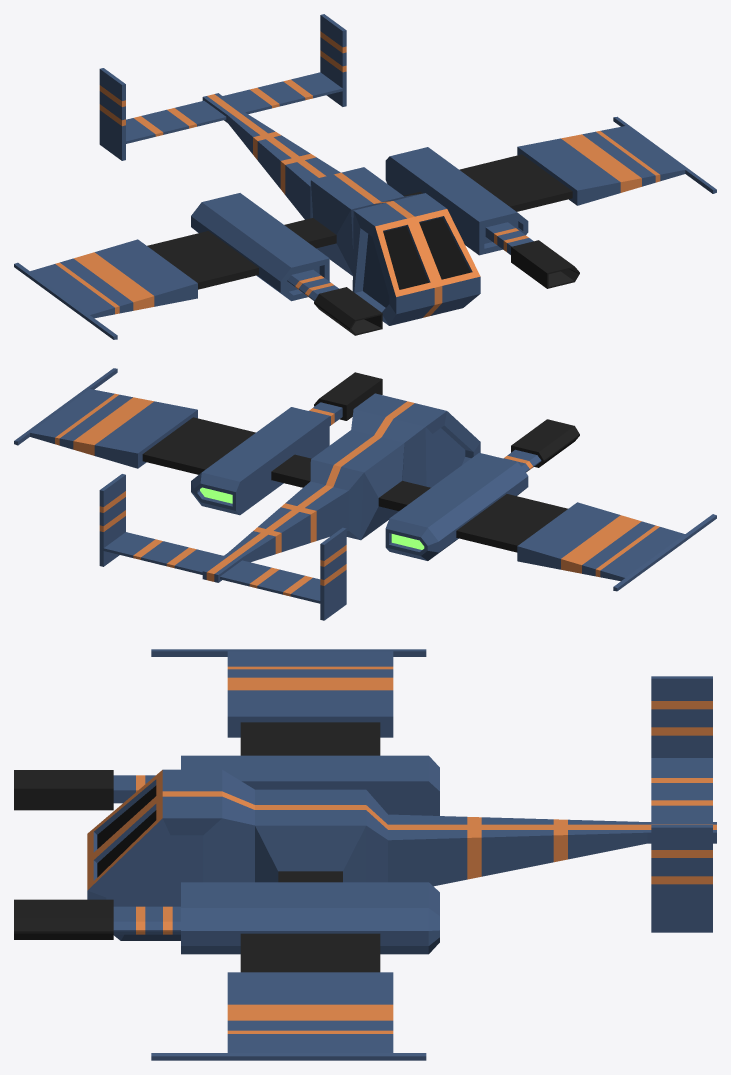
File: ks_enemy_ship_001.fbx
3 views of the same model, one above another, from view 1: azimuth 30°, elevation 25°; view 2: azimuth 150°, elevation 25°; view 3: azimuth 270°, elevation 25° (orthographic). The views are drawn at different scales.
Parts seen in each view (by area): view 1: Cube.052; view 2: Cube.052; view 3: Cube.052.
Part boxes in pixels (x1,y1,x2,y2): Cube.052: [14, 14, 716, 339]; Cube.052: [14, 368, 716, 620]; Cube.052: [14, 649, 716, 1060].
Size of the model in its own units: 1429 by 269 by 1043.
